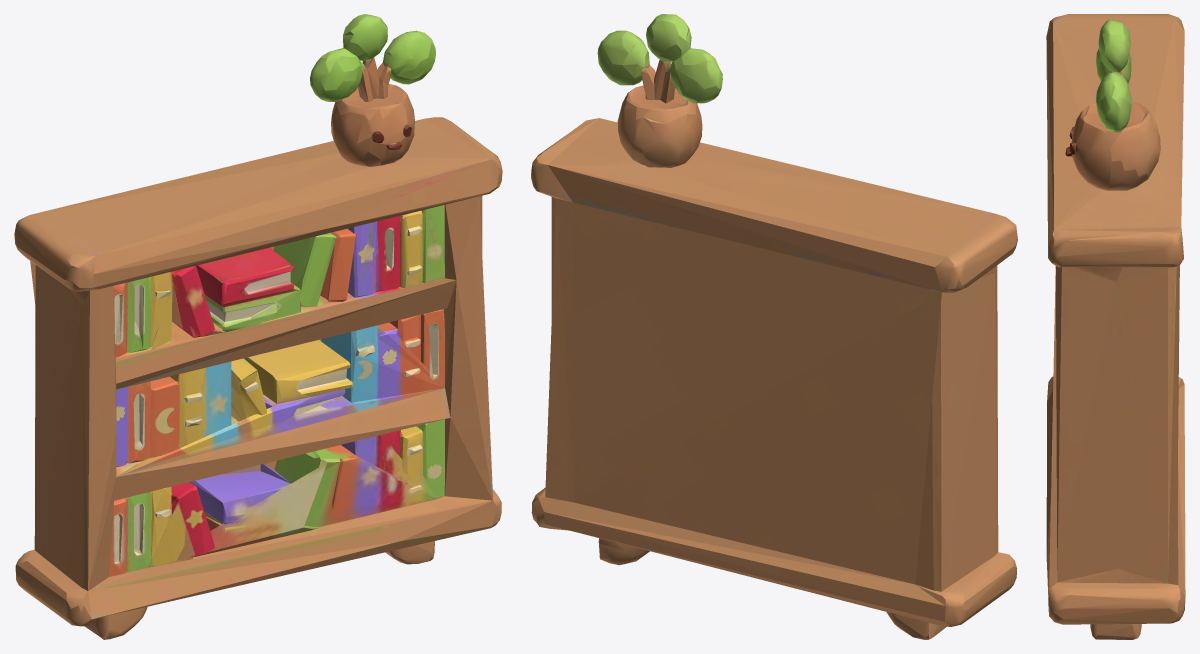
File: bookshelf.glb
3 views of the same model, side by side, from view 1: azimuth 30°, elevation 25°; view 2: azimuth 150°, elevation 25°; view 3: azimuth 270°, elevation 25° (orthographic). The views are drawn at different scales.
Bounding box in the file's own units: 1 × 1.22 × 0.2601.
Materials: 1 (1 with a texture image).
